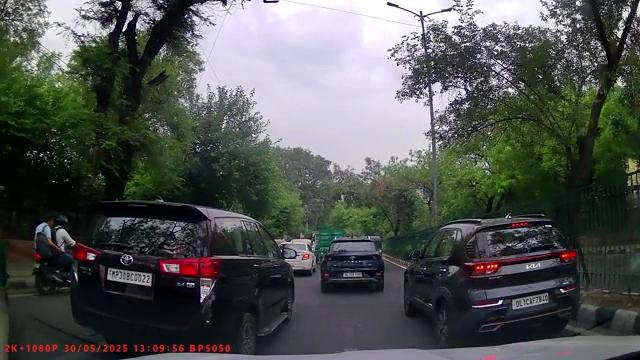passenger_without_helmet: (31, 212, 76, 295)
